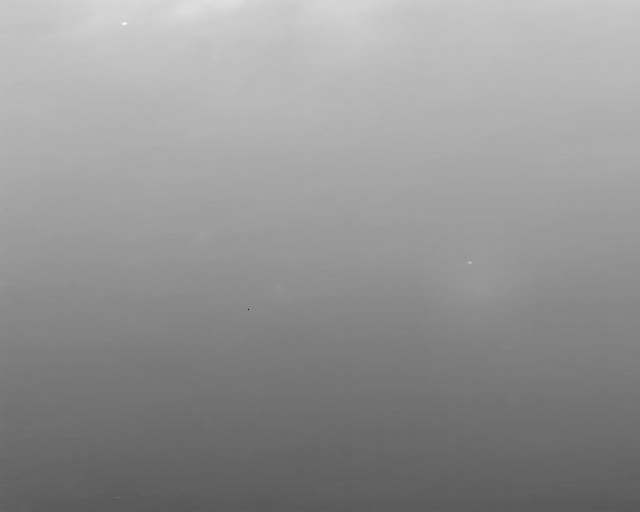Target: (122, 23, 128, 26), (469, 262, 474, 265)
